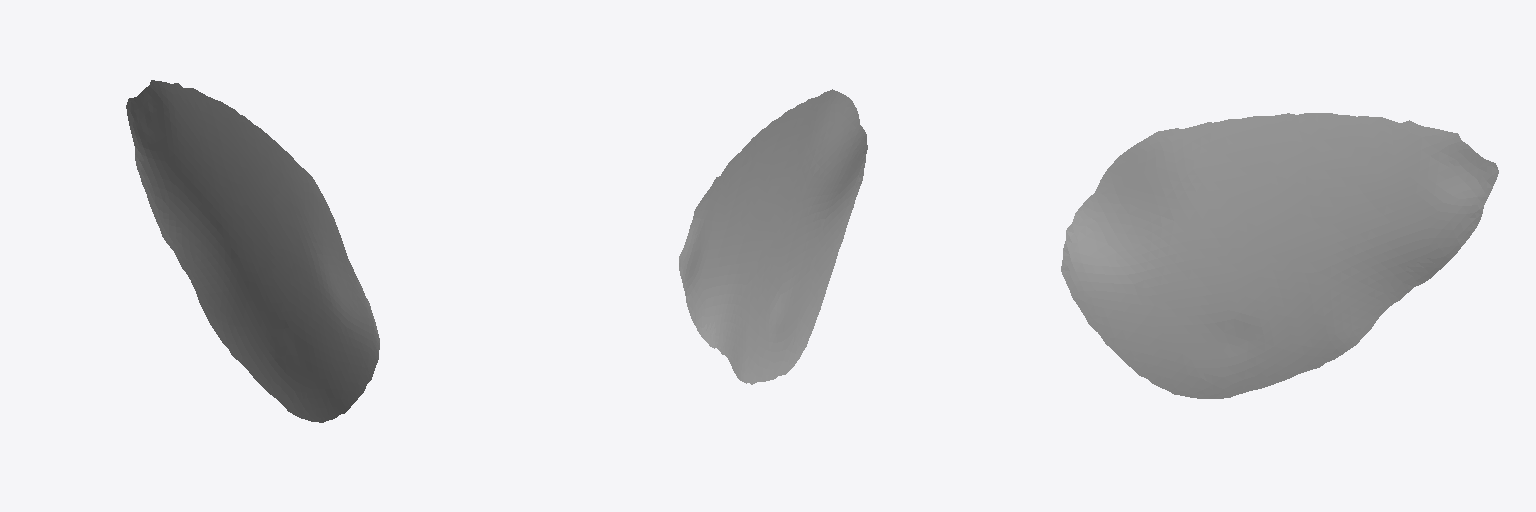
Rendered from Paciente1_fl_str.obj.
The picture shows the model from 3 angles: view 1: azimuth 30°, elevation 25°; view 2: azimuth 150°, elevation 25°; view 3: azimuth 270°, elevation 25°; orthographic projection.
Visible parts, largest first — view 1: Paciente_1_fl_str; view 2: Paciente_1_fl_str; view 3: Paciente_1_fl_str.
Part boxes in pixels (x1,y1,x2,y2): Paciente_1_fl_str: (126, 80, 379, 422); Paciente_1_fl_str: (679, 89, 867, 384); Paciente_1_fl_str: (1061, 113, 1498, 398).
Size of the model in its own units: 3.4 by 22.28 by 31.82.